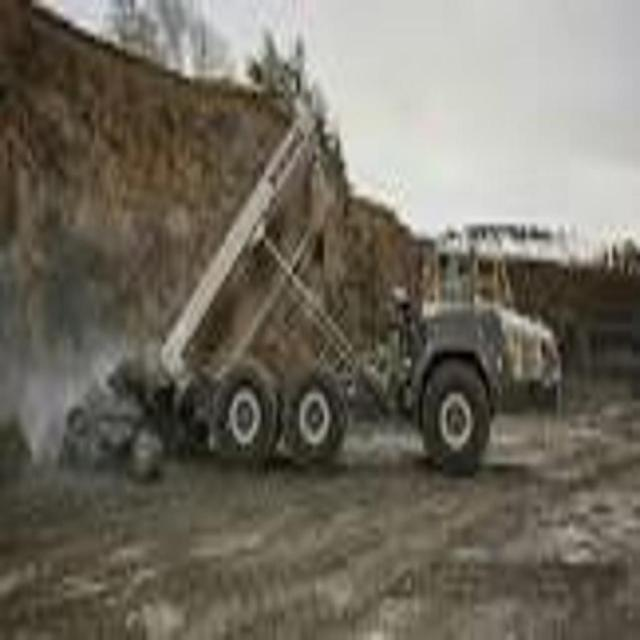dump_truck: (158, 116, 566, 498)
